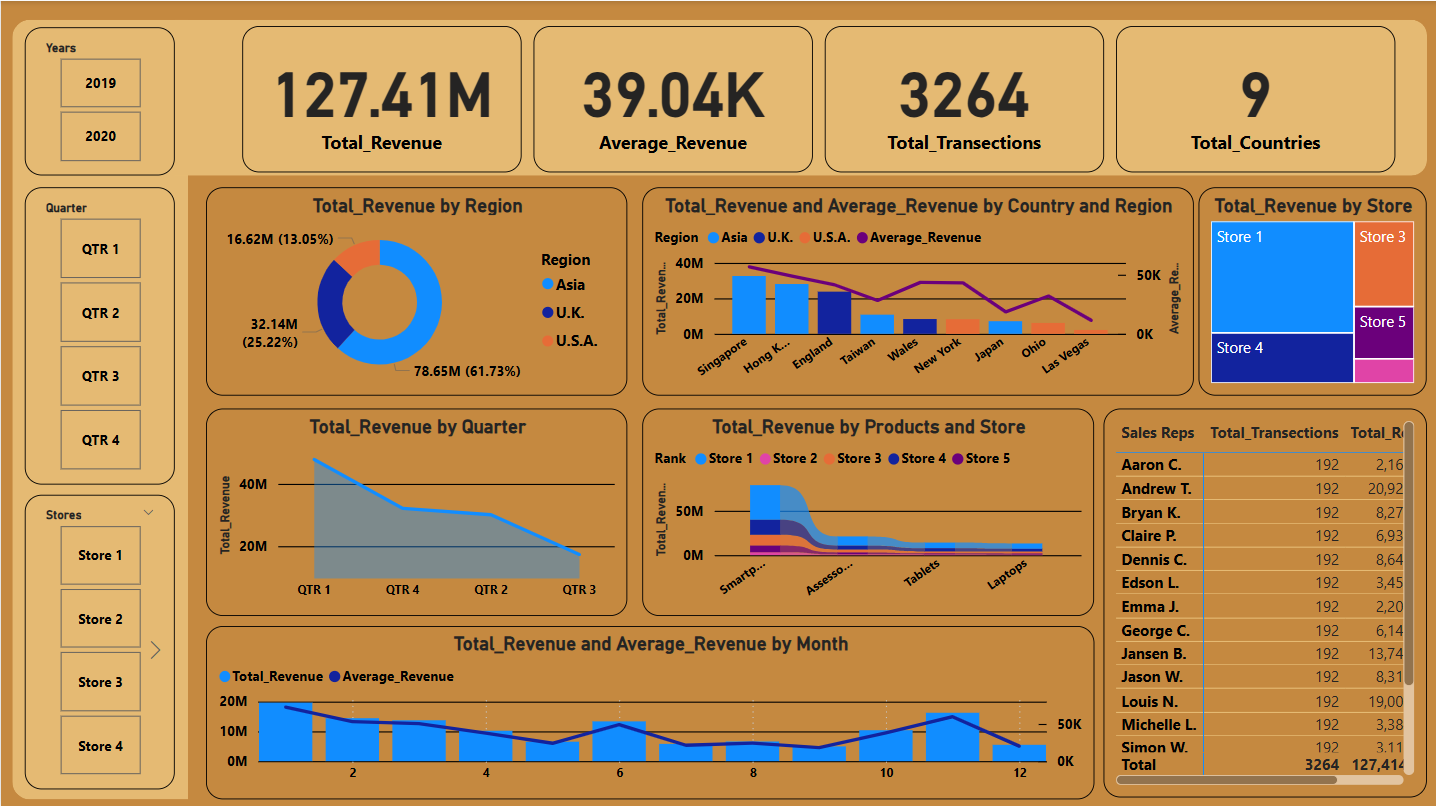

The dashboard page shown, as its layout file describes it:
{"tool":"powerbi","page":{"name":"Page 1","canvas":[1280,720],"ordinal":0},"visuals":[{"type":"shape","box":[10,16.7,156.7,694.4],"z":0},{"type":"shape","box":[154.4,16.7,1115.6,138.9],"z":1000},{"type":"card","fields":{"Values":["Measures (2).Total_Revenue"]},"box":[214.7,21.7,248.5,130.3],"z":2000},{"type":"card","fields":{"Values":["Measures (2).Average_Revenue"]},"box":[474.1,21.7,248.5,130.3],"z":3000},{"type":"card","fields":{"Values":["Measures (2).Total_Transections"]},"box":[733.5,21.7,248.5,130.3],"z":4000},{"type":"card","fields":{"Values":["Measures (2).Countries"]},"box":[992.9,21.7,248.5,130.3],"z":5000},{"type":"donutChart","fields":{"Y":["Measures (2).Total_Revenue"],"Category":["Sheet1.Region"]},"box":[182.2,165.6,375.6,185.6],"z":6000},{"type":"lineStackedColumnComboChart","fields":{"Category":["Sheet1.Country"],"Y":["Measures (2).Total_Revenue"],"Series":["Sheet1.Region"],"Y2":["Measures (2).Average_Revenue"]},"box":[571.1,165.6,491.1,185.6],"z":7000},{"type":"treemap","title":"Total_Revenue by Store","fields":{"Values":["Measures (2).Total_Revenue"],"Group":["Sheet1.Rank"]},"box":[1066.7,165.6,203.3,185.6],"z":8000},{"type":"areaChart","fields":{"Y":["Measures (2).Total_Revenue"],"Category":["Sheet1.Quarter"]},"box":[182.2,363.3,375.6,184.4],"z":9000},{"type":"ribbonChart","title":"Total_Revenue by Products and Store","fields":{"Series":["Sheet1.Rank"],"Y":["Measures (2).Total_Revenue"],"Category":["Sheet1.Products"]},"box":[571.1,363.3,402.2,184.4],"z":10000},{"type":"pivotTable","fields":{"Rows":["Sheet1.Sales Reps"],"Values":["Measures (2).Total_Transections","Measures (2).Total_Revenue"]},"box":[982.2,363.3,287.8,346.7],"z":11000},{"type":"lineStackedColumnComboChart","fields":{"Y":["Measures (2).Total_Revenue"],"Y2":["Measures (2).Average_Revenue"],"Category":["Sheet1.Month"]},"box":[182.2,556.7,791.1,154.4],"z":12000},{"type":"slicer","fields":{"Values":["Sheet1.Years"]},"box":[21.1,23.3,133.3,132.2],"z":13000},{"type":"slicer","fields":{"Values":["Sheet1.Quarter"]},"box":[21.1,165.6,133.3,264.4],"z":14000},{"type":"slicer","fields":{"Values":["Sheet1.Rank"]},"box":[21.1,440,133.3,262.2],"z":15000}]}

Visuals, with their boxes in screenshot pixels (x1, y1, x2, y2), scaled from the page's 1280x720 canvas onto the 1436x806 screenshot:
shape: {"x1": 11, "y1": 19, "x2": 187, "y2": 796}
shape: {"x1": 173, "y1": 19, "x2": 1425, "y2": 174}
card - Measures (2).Total_Revenue: {"x1": 241, "y1": 24, "x2": 520, "y2": 170}
card - Measures (2).Average_Revenue: {"x1": 532, "y1": 24, "x2": 811, "y2": 170}
card - Measures (2).Total_Transections: {"x1": 823, "y1": 24, "x2": 1102, "y2": 170}
card - Measures (2).Countries: {"x1": 1114, "y1": 24, "x2": 1393, "y2": 170}
donutChart - Measures (2).Total_Revenue x Sheet1.Region: {"x1": 204, "y1": 185, "x2": 626, "y2": 393}
lineStackedColumnComboChart - Sheet1.Country x Measures (2).Total_Revenue: {"x1": 641, "y1": 185, "x2": 1192, "y2": 393}
"Total_Revenue by Store" treemap: {"x1": 1197, "y1": 185, "x2": 1425, "y2": 393}
areaChart - Measures (2).Total_Revenue x Sheet1.Quarter: {"x1": 204, "y1": 407, "x2": 626, "y2": 613}
"Total_Revenue by Products and Store" ribbonChart: {"x1": 641, "y1": 407, "x2": 1092, "y2": 613}
pivotTable - Sheet1.Sales Reps x Measures (2).Total_Transections: {"x1": 1102, "y1": 407, "x2": 1425, "y2": 795}
lineStackedColumnComboChart - Measures (2).Total_Revenue x Measures (2).Average_Revenue: {"x1": 204, "y1": 623, "x2": 1092, "y2": 796}
slicer - Sheet1.Years: {"x1": 24, "y1": 26, "x2": 173, "y2": 174}
slicer - Sheet1.Quarter: {"x1": 24, "y1": 185, "x2": 173, "y2": 481}
slicer - Sheet1.Rank: {"x1": 24, "y1": 493, "x2": 173, "y2": 786}
